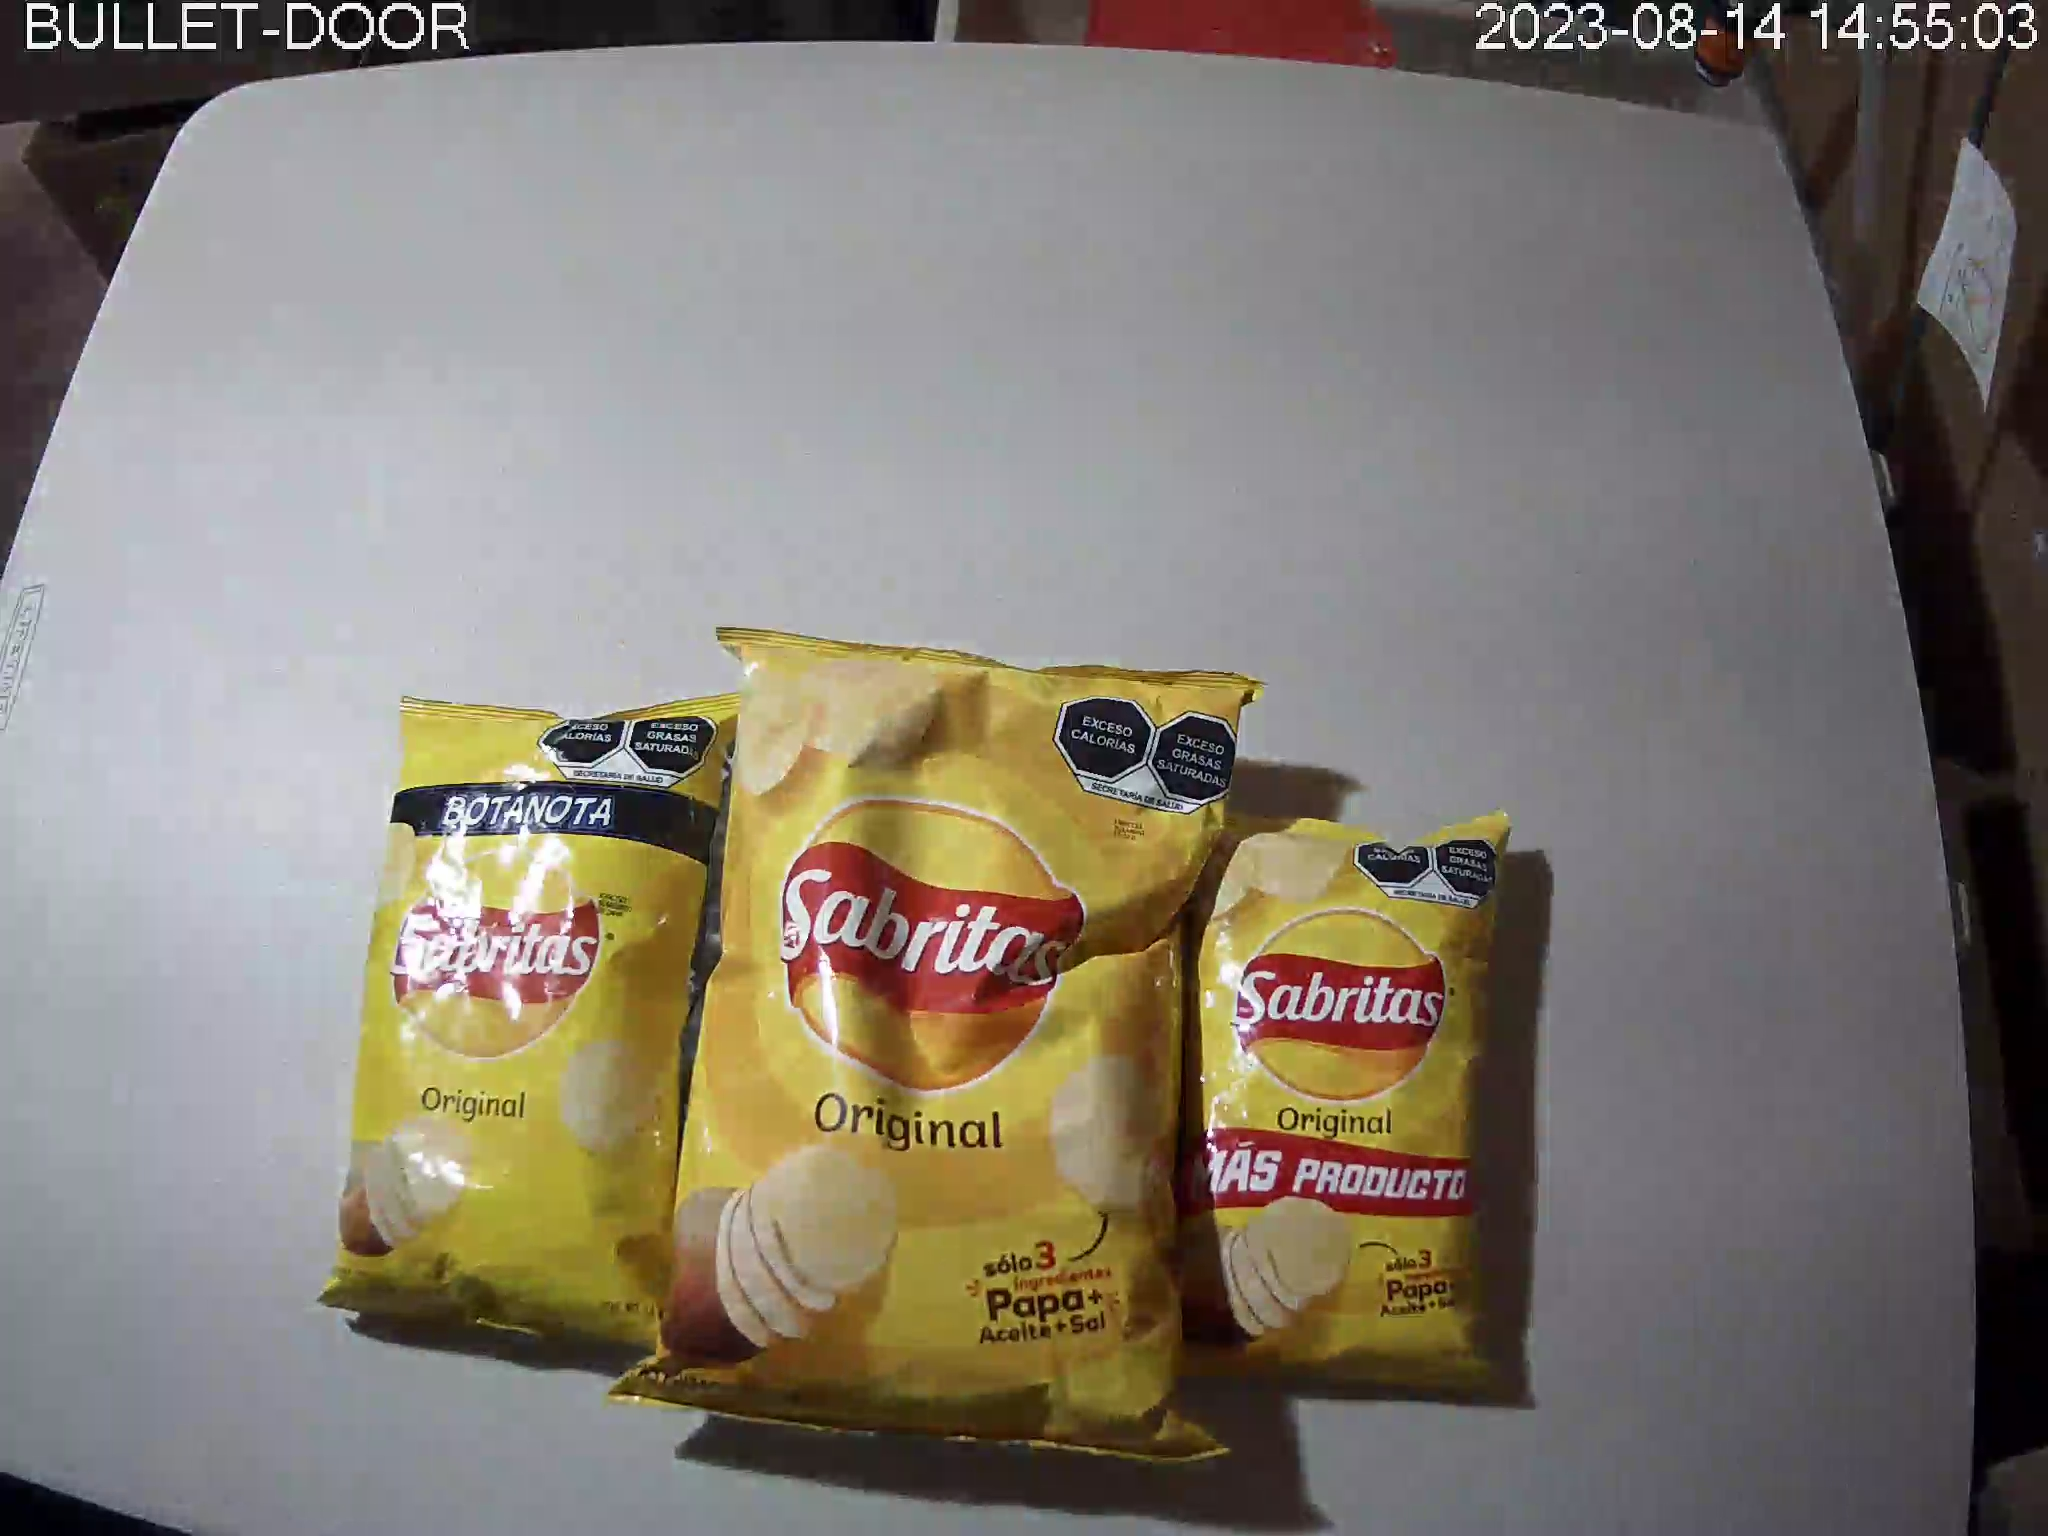Sabritas_160_F: (606, 624, 1269, 1473)
Sabritas_45_F: (1142, 807, 1514, 1388)
Sabritas_64_F: (316, 694, 742, 1365)
